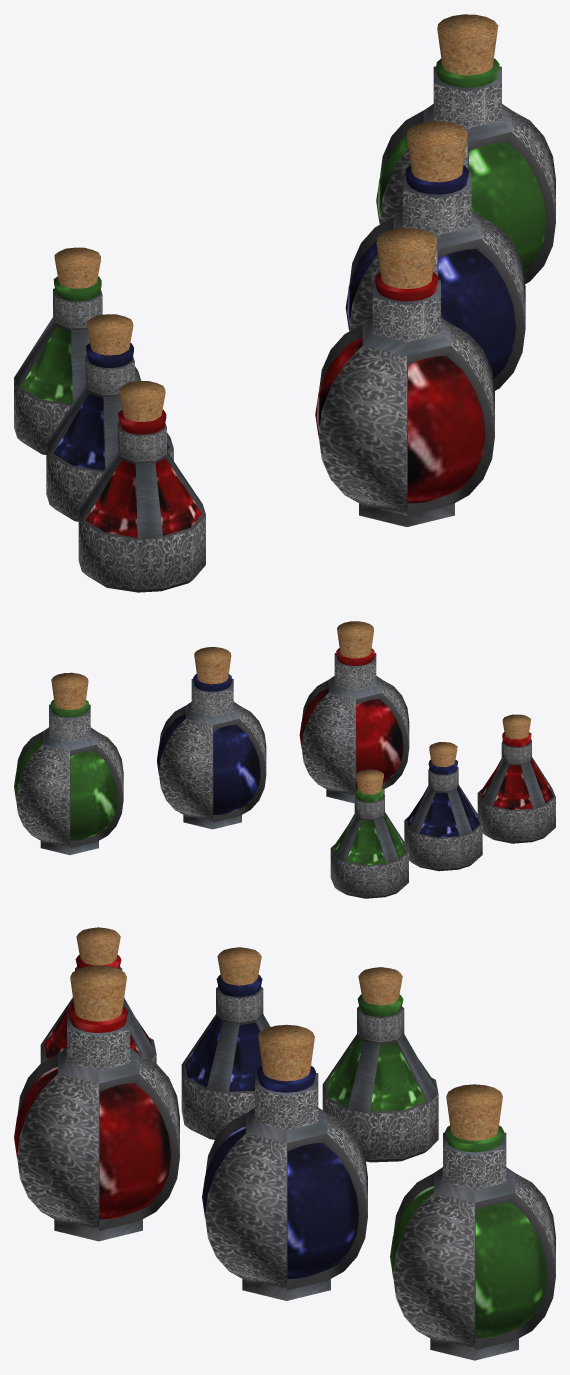
The model's file is potions_all.fbx.
3 views of the same model, one above another, from view 1: azimuth 30°, elevation 25°; view 2: azimuth 150°, elevation 25°; view 3: azimuth 270°, elevation 25° (orthographic). The views are drawn at different scales.
Visible parts, largest first — view 1: Sphere_002, Sphere_001, Sphere_003, Cylinder, Cylinder_001, Cylinder_002; view 2: Sphere_001, Sphere_003, Sphere_002, Cylinder_002, Cylinder_001, Cylinder; view 3: Sphere_002, Sphere_001, Sphere_003, Cylinder_002, Cylinder_001, Cylinder.
Part boxes in pixels (x1,y1,x2,y2): Sphere_002: [315, 228, 494, 526]; Sphere_001: [345, 121, 525, 390]; Sphere_003: [376, 14, 555, 283]; Cylinder: [78, 381, 205, 592]; Cylinder_001: [46, 314, 173, 521]; Cylinder_002: [14, 247, 141, 454]; Sphere_001: [157, 647, 266, 829]; Sphere_003: [14, 672, 123, 855]; Sphere_002: [299, 621, 409, 803]; Cylinder_002: [330, 769, 408, 898]; Cylinder_001: [404, 742, 482, 871]; Cylinder: [477, 714, 555, 843]; Sphere_002: [14, 965, 179, 1241]; Sphere_001: [202, 1024, 367, 1300]; Sphere_003: [390, 1084, 555, 1360]; Cylinder_002: [322, 967, 438, 1162]; Cylinder_001: [181, 947, 270, 1139]; Cylinder: [40, 927, 156, 1063].
Bounding box in the file's own units: 15.23 × 5.7 × 11.53.
